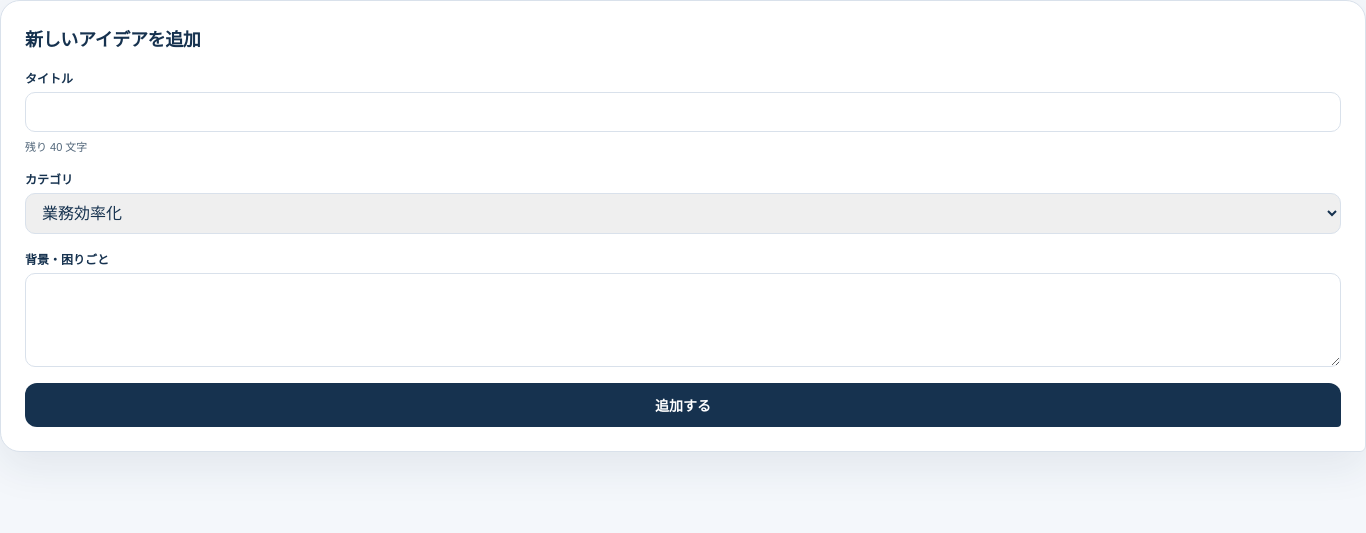
Scenario: Ticket C: アイデア追加フォーム › タイトルが3文字未満の場合は理由を表示して追加しない
Step 1. Type "議事" into the field labelled "タイトル" → (683, 112), box [25, 92, 1341, 132]
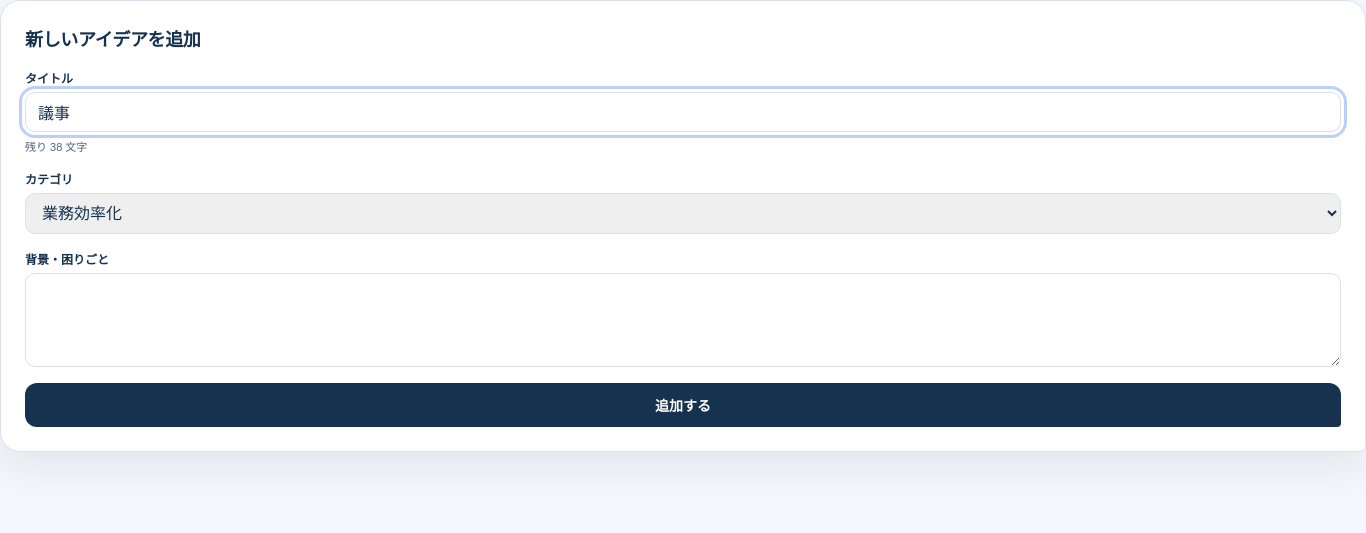
Step 2. Type "説明文です" into the text box labelled "背景・困りごと" → (683, 320), box [25, 273, 1341, 367]
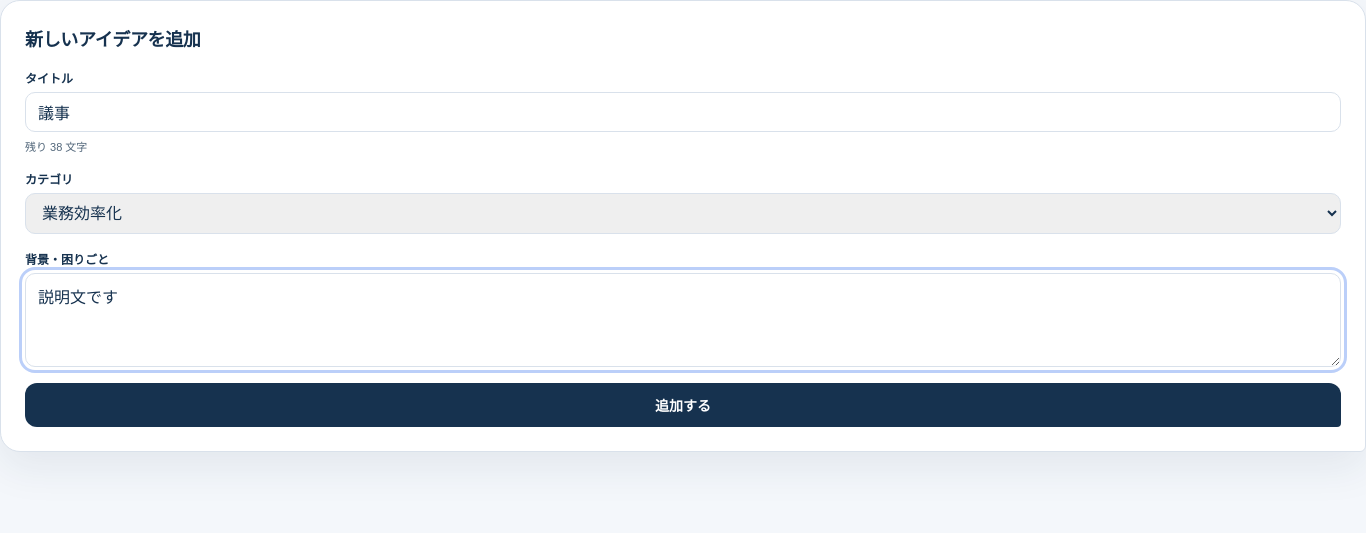
Step 3. Click the button "追加する" → (683, 405), box [25, 383, 1341, 427]
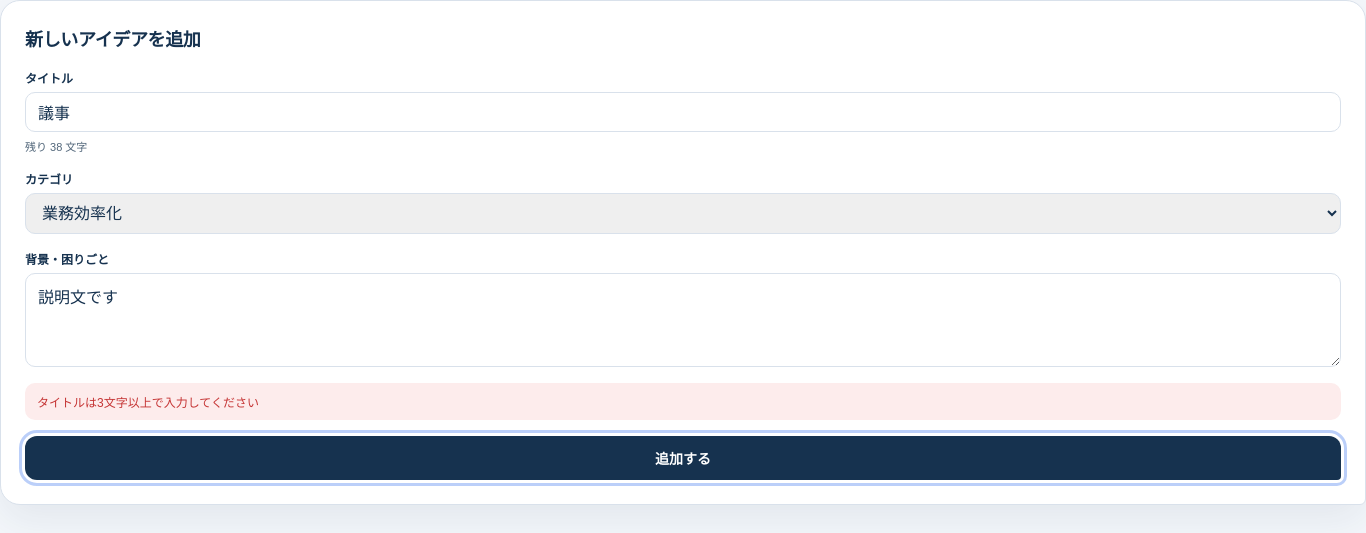
Result: the message reads "タイトルは3文字以上で入力してください" at [37, 396, 259, 410]
